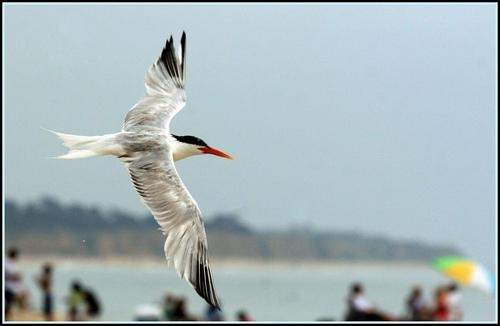bird: (50, 24, 235, 311)
